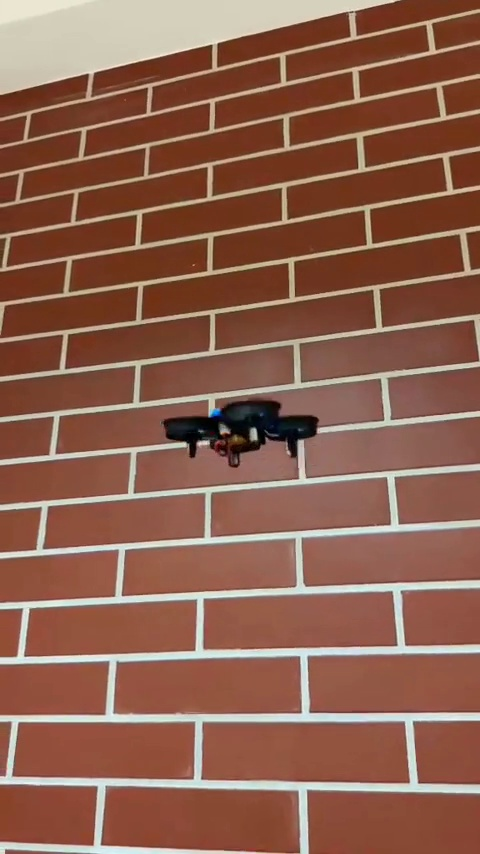drone: (156, 398, 320, 472)
